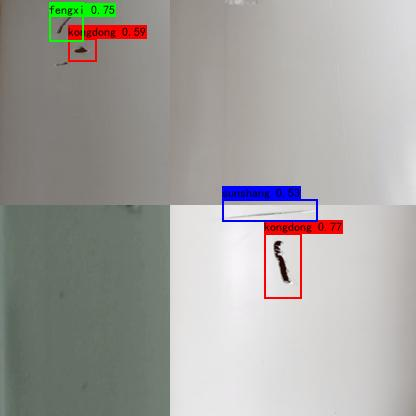fengxi: (267, 232, 295, 288), (47, 3, 78, 42)
kongdong: (67, 42, 95, 54), (54, 57, 76, 72)
sunshang: (214, 204, 316, 229)
